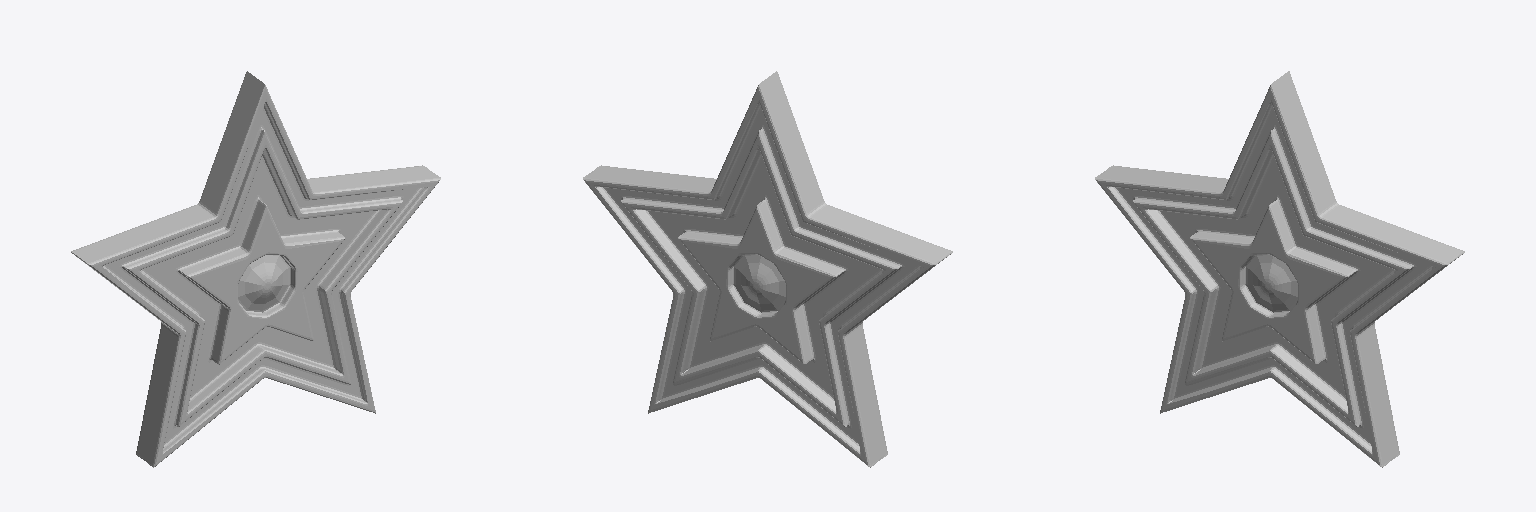
File: MEGASTAR.obj
3 views of the same model, side by side, from view 1: azimuth 30°, elevation 25°; view 2: azimuth 150°, elevation 25°; view 3: azimuth 330°, elevation 25° (orthographic).
Visible parts, largest first — view 1: MEGASTARER_Cube.001; view 2: MEGASTARER_Cube.001; view 3: MEGASTARER_Cube.001.
Boxes of the visible parts, <box> form: MEGASTARER_Cube.001: <box>71,71,440,467</box>; MEGASTARER_Cube.001: <box>583,71,952,467</box>; MEGASTARER_Cube.001: <box>1095,71,1464,467</box>.
Size of the model in its own units: 5.38 by 5.2 by 0.6153.